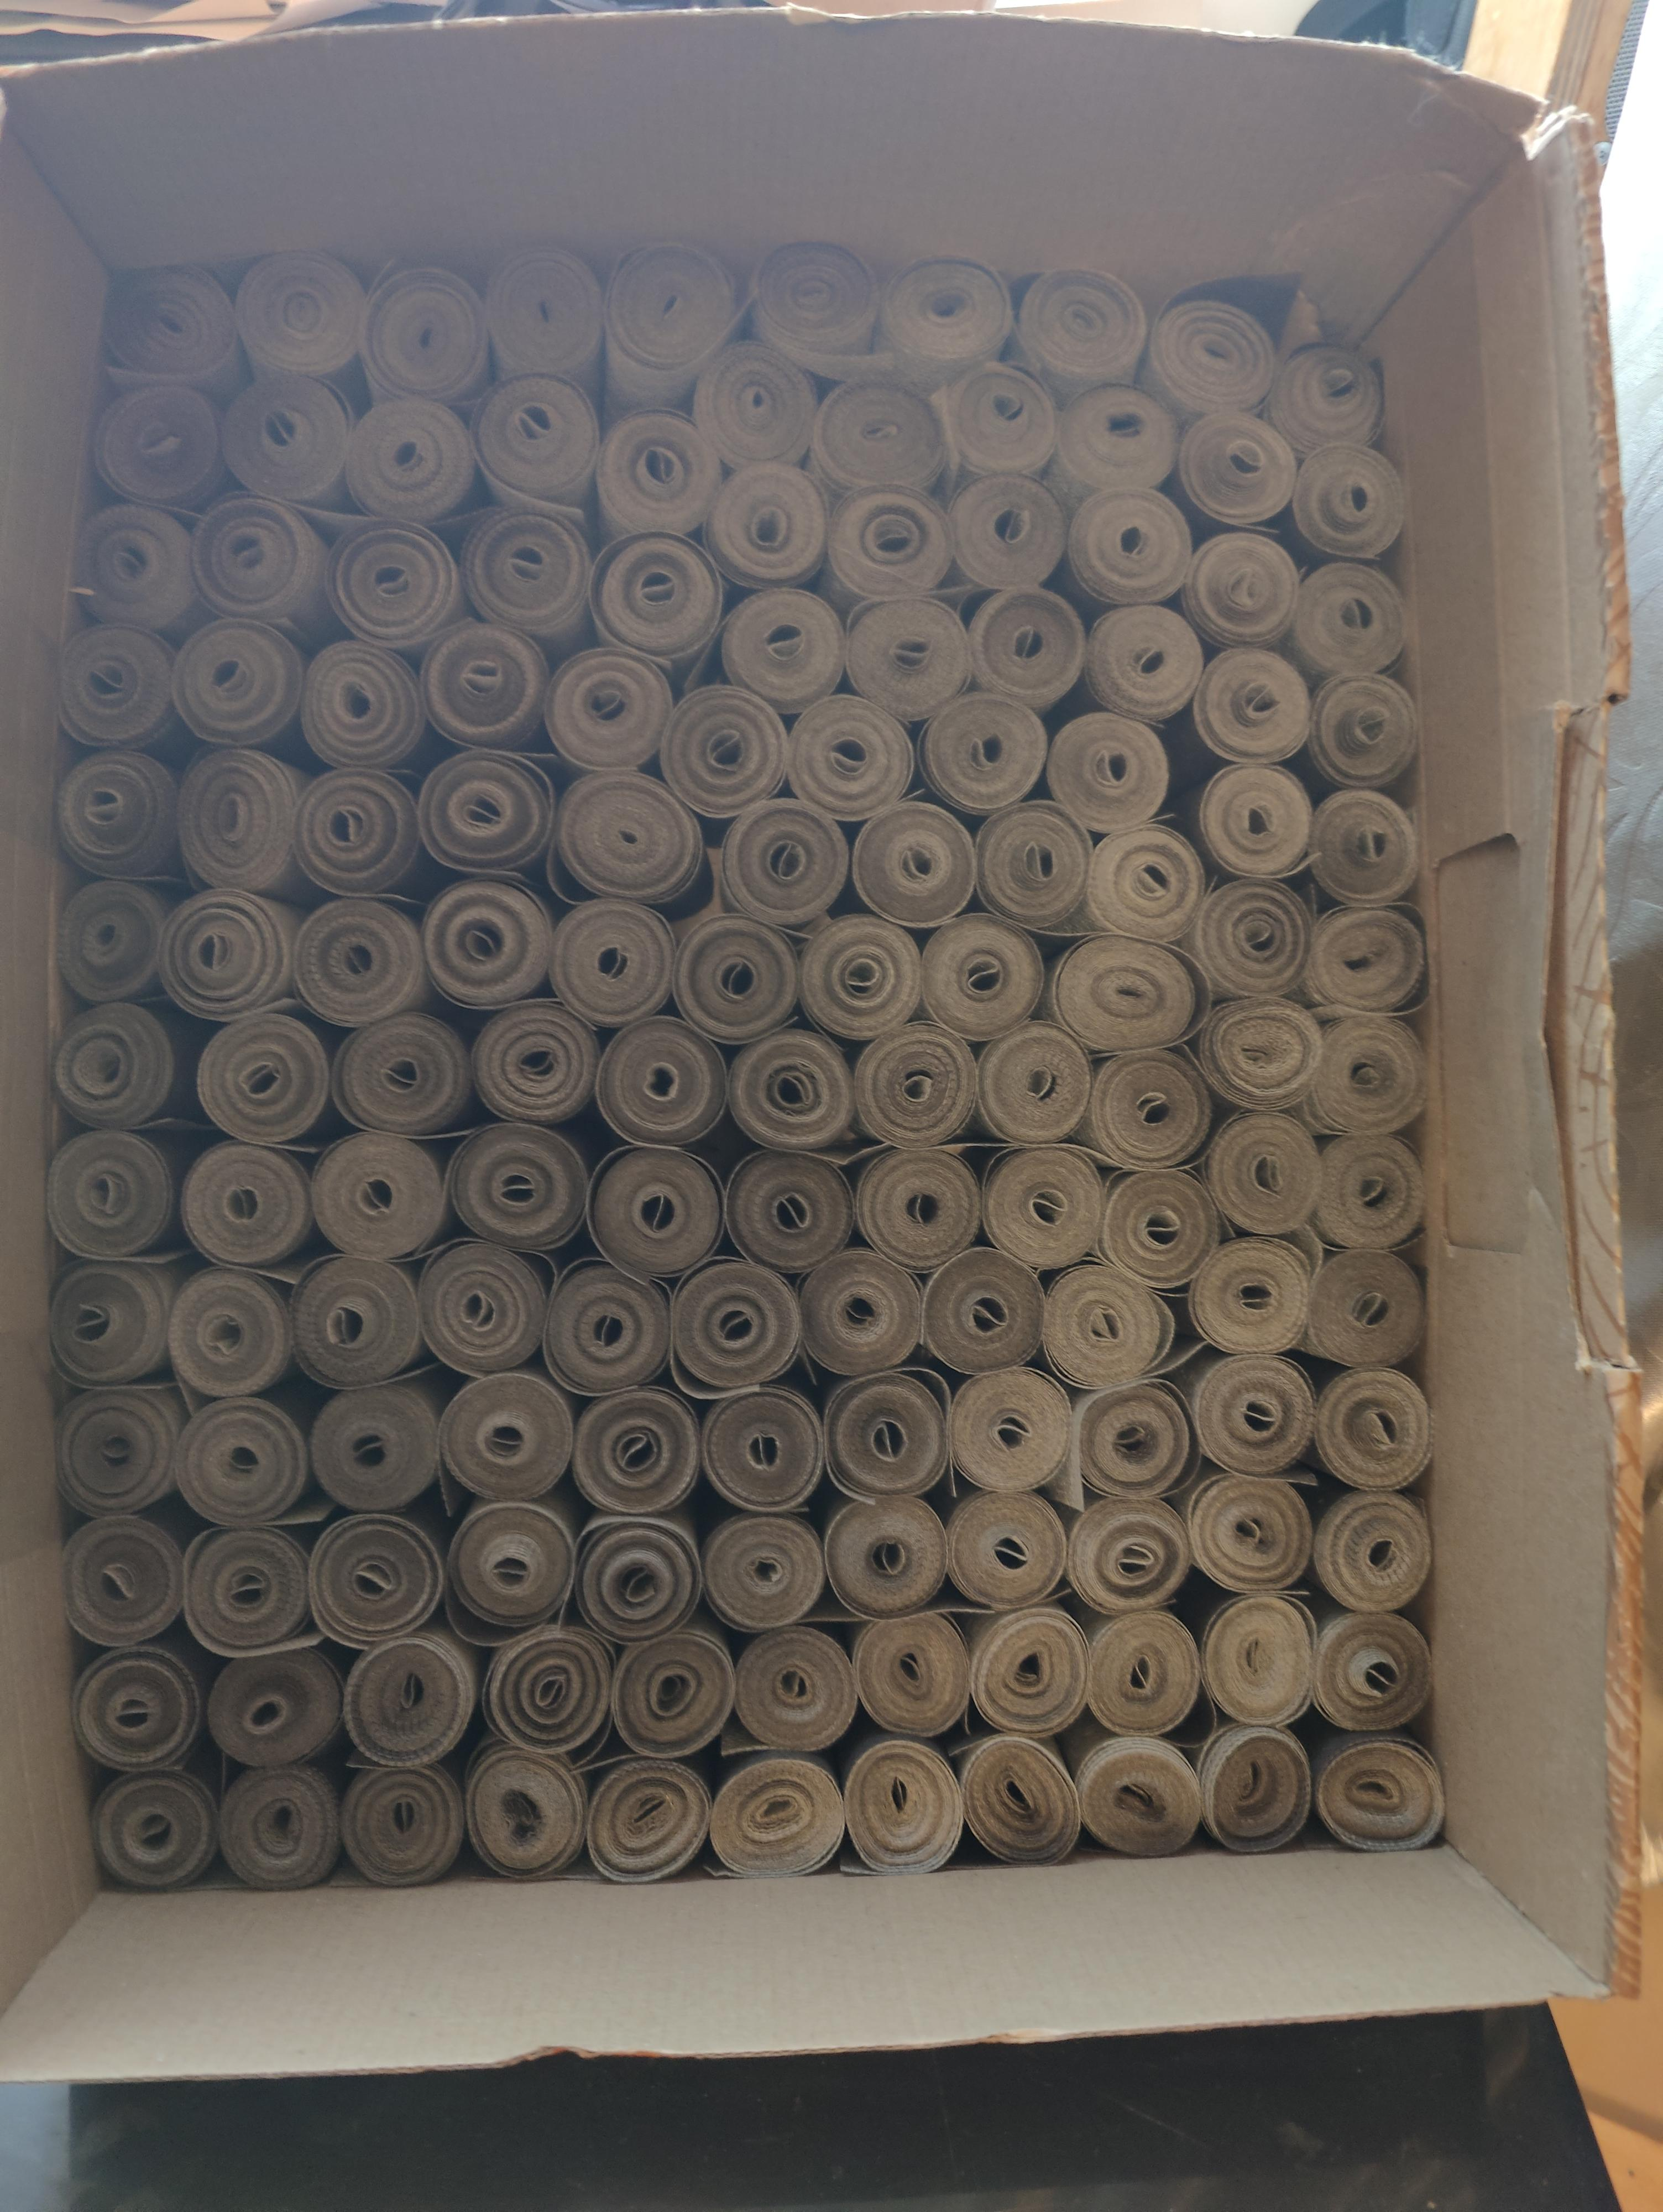roll: (552, 767, 704, 912), (190, 491, 334, 643), (171, 744, 314, 893), (304, 1373, 449, 1518), (433, 1366, 580, 1508), (458, 505, 596, 655), (444, 1490, 587, 1634), (339, 1628, 482, 1772), (306, 1508, 451, 1649), (217, 372, 358, 517), (327, 517, 468, 662), (286, 1249, 433, 1389), (306, 1127, 454, 1265), (601, 238, 735, 390), (169, 1389, 311, 1532), (412, 746, 555, 888), (190, 1005, 335, 1144), (442, 1118, 590, 1255), (358, 260, 493, 411), (470, 374, 603, 526), (585, 1141, 728, 1281), (540, 645, 683, 785), (155, 882, 302, 1019), (180, 1520, 321, 1660), (479, 1621, 620, 1761), (414, 1237, 555, 1377), (545, 893, 687, 1033), (169, 613, 311, 753), (176, 1136, 320, 1274), (231, 246, 369, 390), (542, 1258, 680, 1400), (666, 1256, 804, 1398), (417, 872, 559, 1010), (590, 1012, 732, 1150), (44, 1123, 187, 1260), (459, 1738, 594, 1884), (1050, 928, 1198, 1059), (748, 239, 879, 388), (164, 1262, 302, 1401), (47, 994, 185, 1134), (875, 252, 1011, 393), (288, 891, 431, 1026), (589, 529, 723, 673), (328, 1010, 473, 1143), (482, 241, 608, 393), (45, 1255, 183, 1393), (416, 620, 554, 758), (949, 1728, 1083, 1870), (1015, 266, 1149, 407), (590, 407, 721, 552), (70, 1641, 208, 1777), (91, 379, 227, 517), (342, 393, 479, 531), (297, 636, 433, 774), (58, 1511, 192, 1651), (465, 996, 604, 1130), (568, 1384, 704, 1520), (52, 1382, 187, 1520), (657, 680, 790, 819), (203, 1644, 344, 1775), (837, 1732, 964, 1877), (571, 1511, 706, 1648), (290, 762, 424, 898), (1067, 1730, 1204, 1863), (51, 744, 182, 882), (1308, 1728, 1448, 1857), (73, 500, 203, 639), (1052, 381, 1181, 521), (583, 1752, 716, 1887), (847, 798, 980, 933), (714, 797, 847, 931), (919, 1244, 1050, 1380), (52, 868, 182, 1006), (809, 374, 947, 503), (704, 1749, 837, 1882), (1146, 292, 1279, 425), (819, 479, 952, 612), (215, 1759, 346, 1894), (819, 1489, 950, 1623), (335, 1752, 465, 1889), (693, 1382, 823, 1518), (690, 339, 818, 477), (1198, 1590, 1322, 1732), (89, 1763, 222, 1894), (942, 1483, 1074, 1614), (1041, 704, 1174, 835), (915, 909, 1046, 1041), (1190, 868, 1321, 1001), (838, 591, 970, 723), (783, 690, 914, 823), (1310, 1485, 1439, 1620), (795, 1246, 924, 1380), (852, 1144, 987, 1274), (669, 910, 798, 1045), (714, 584, 844, 718), (101, 264, 238, 391), (964, 1602, 1092, 1738), (845, 1607, 973, 1744), (1036, 1258, 1172, 1386), (943, 468, 1074, 599), (721, 1024, 852, 1155), (1200, 1109, 1331, 1241), (921, 688, 1052, 819), (1308, 1604, 1438, 1737), (1190, 1351, 1322, 1480), (945, 1361, 1074, 1494), (1188, 1234, 1321, 1363), (606, 1627, 734, 1761), (1174, 407, 1301, 542), (819, 1366, 947, 1501), (1310, 1363, 1438, 1497), (793, 912, 921, 1047), (1081, 1606, 1209, 1740), (1081, 1040, 1218, 1165), (849, 1020, 980, 1150), (1064, 484, 1193, 615), (728, 1623, 856, 1756), (1184, 1468, 1317, 1595), (54, 619, 182, 751), (970, 798, 1097, 931), (1080, 818, 1212, 945), (1080, 599, 1207, 732), (1195, 1719, 1317, 1857), (1301, 1248, 1431, 1377), (1188, 643, 1317, 772), (1064, 1490, 1195, 1618), (1191, 757, 1319, 888), (706, 460, 830, 594), (697, 1508, 825, 1637), (1073, 1377, 1202, 1504), (1305, 1008, 1432, 1137), (978, 1141, 1106, 1270), (720, 1144, 847, 1274), (964, 584, 1088, 716), (936, 362, 1062, 491), (1195, 989, 1326, 1113), (1095, 1165, 1221, 1293), (1179, 528, 1305, 655), (973, 1019, 1101, 1143), (1287, 442, 1410, 570), (1289, 557, 1411, 685), (1268, 337, 1390, 461), (1303, 898, 1429, 1017), (1312, 1129, 1432, 1251), (1303, 783, 1424, 905), (1305, 667, 1424, 790)
